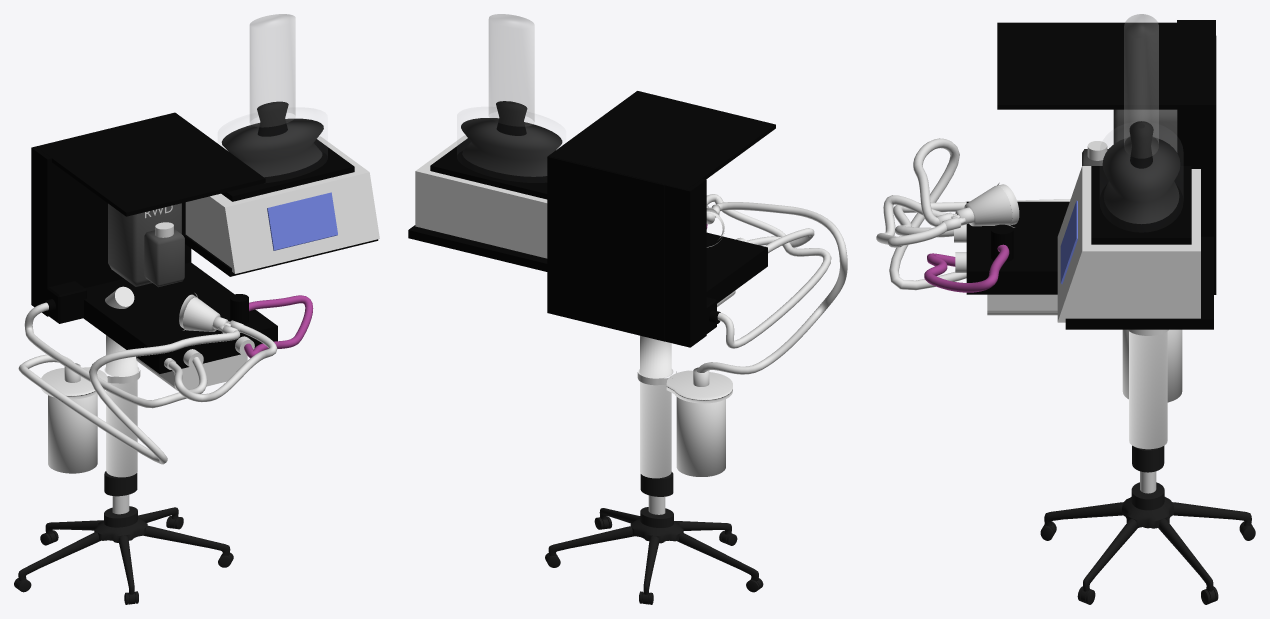
Rendered from veteriner3d.glb.
The picture shows the model from 3 angles, left to right: view 1: azimuth 30°, elevation 25°; view 2: azimuth 150°, elevation 25°; view 3: azimuth 270°, elevation 25°; orthographic projection. The views are drawn at different scales.
Parts seen in each view (by area): view 1: Cube.008, Cube.002, Cube.004, Cylinder.011, Cube.009, Cylinder, BezierCurve.002, Cylinder.002, Cube.007, Cylinder.012, Cube.005, Cube.003 (+14 smaller); view 2: Cube.007, Cube.008, Cube.002, Cube.009, Cylinder.011, Cylinder, Cylinder.004, Cylinder.002, Cylinder.012, BezierCurve.002, Cube.004, Cube.001 (+5 smaller); view 3: Cube.008, Cube.002, Cylinder.011, Cube.004, Cylinder.002, Cylinder, Cylinder.004, Cube.001, Cube.007, Cube, BezierCurve.002, Cylinder.018 (+9 smaller).
Boxes of the visible parts, x1,y1,x2,y2 form: Cube.008: [37, 113, 265, 216]; Cube.002: [185, 136, 379, 273]; Cube.004: [83, 262, 277, 373]; Cylinder.011: [14, 471, 233, 604]; Cube.009: [31, 140, 76, 316]; Cylinder: [250, 14, 295, 127]; BezierCurve.002: [18, 330, 239, 464]; Cylinder.002: [221, 118, 323, 177]; Cube.007: [60, 112, 191, 287]; Cylinder.012: [48, 393, 97, 473]; Cube.005: [108, 203, 181, 286]; Cube.003: [267, 192, 337, 250]; Cube.007: [547, 156, 664, 341]; Cube.008: [548, 91, 775, 189]; Cube.002: [415, 135, 547, 258]; Cube.009: [661, 178, 706, 347]; Cylinder.011: [545, 472, 763, 604]; Cylinder: [489, 14, 534, 126]; Cylinder.004: [638, 335, 673, 478]; Cylinder.002: [461, 118, 562, 176]; Cylinder.012: [676, 397, 725, 476]; BezierCurve.002: [696, 202, 847, 374]; Cube.004: [706, 232, 767, 303]; Cube.001: [430, 138, 547, 199]; Cube.008: [997, 22, 1214, 109]; Cube.002: [1057, 166, 1200, 322]; Cylinder.011: [1040, 445, 1255, 604]; Cube.004: [966, 201, 1069, 294]; Cylinder.002: [1102, 137, 1180, 224]; Cylinder: [1124, 14, 1158, 158]; Cylinder.004: [1129, 331, 1167, 449]; Cube.001: [1091, 166, 1191, 244]; Cube.007: [1177, 36, 1216, 294]; Cube: [1065, 236, 1213, 329]; BezierCurve.002: [889, 138, 966, 290]; Cylinder.018: [936, 182, 1019, 231].
Bounding box in the file's own units: 13.43 × 19.57 × 10.92.
